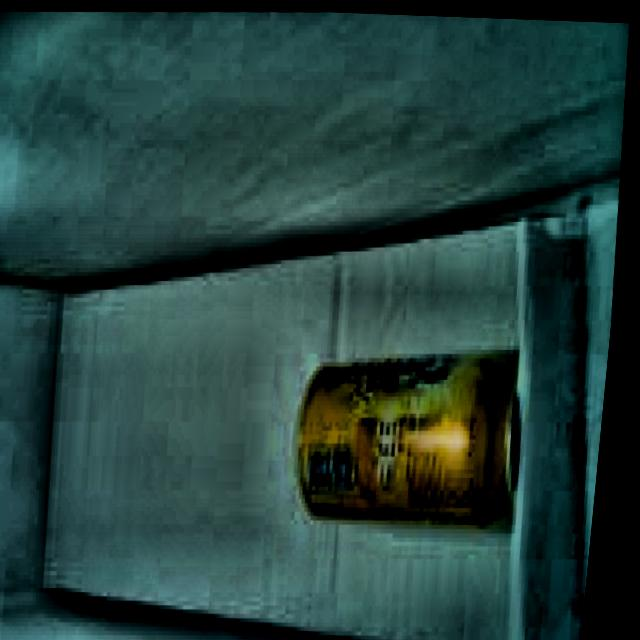Cans: (272, 329, 538, 537)
